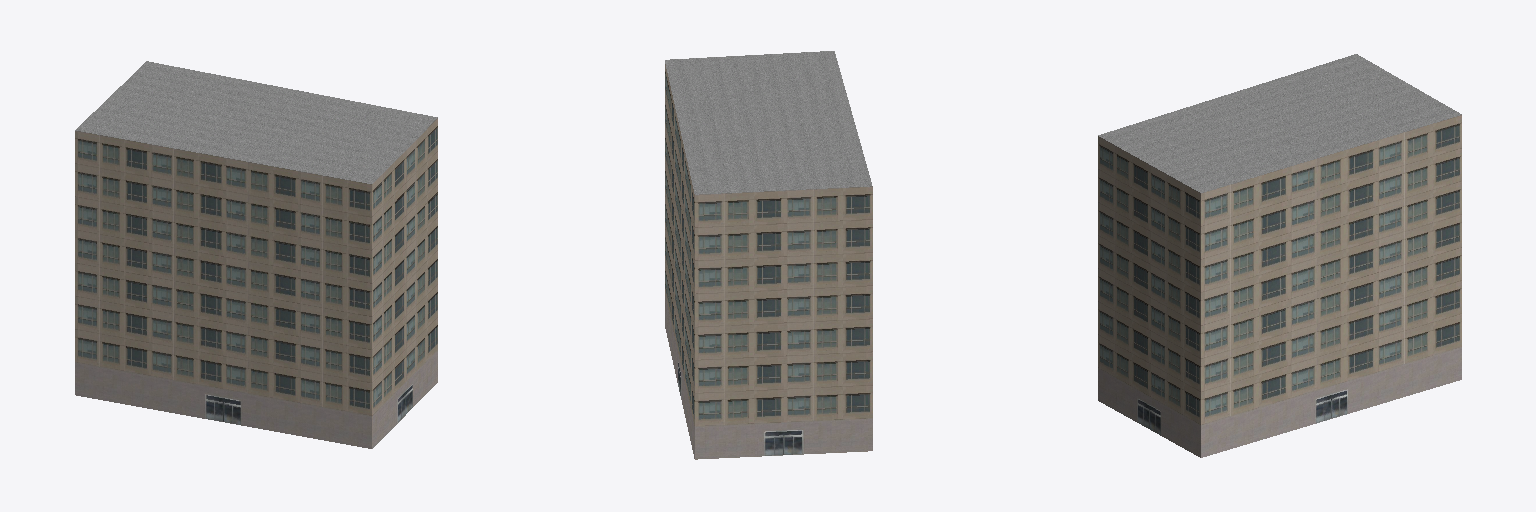
3 views of the same model, side by side, from view 1: azimuth 30°, elevation 25°; view 2: azimuth 150°, elevation 25°; view 3: azimuth 270°, elevation 25° (orthographic).
Parts seen in each view (by area): view 1: BuildingMaster_[number redacted]_0, BuildingMaster_[number redacted]_1; view 2: BuildingMaster_[number redacted]_0, BuildingMaster_[number redacted]_1; view 3: BuildingMaster_[number redacted]_0, BuildingMaster_[number redacted]_1.
Part boxes in pixels (x1,y1,x2,y2): BuildingMaster_[number redacted]_0: (75,118,437,448); BuildingMaster_[number redacted]_1: (75,61,437,183); BuildingMaster_[number redacted]_0: (665,64,872,459); BuildingMaster_[number redacted]_1: (665,51,871,194); BuildingMaster_[number redacted]_0: (1098,115,1461,457); BuildingMaster_[number redacted]_1: (1098,54,1461,192).
Size of the model in its own units: 31.62 by 28 by 34.96.
Materials: 2 (2 with a texture image).